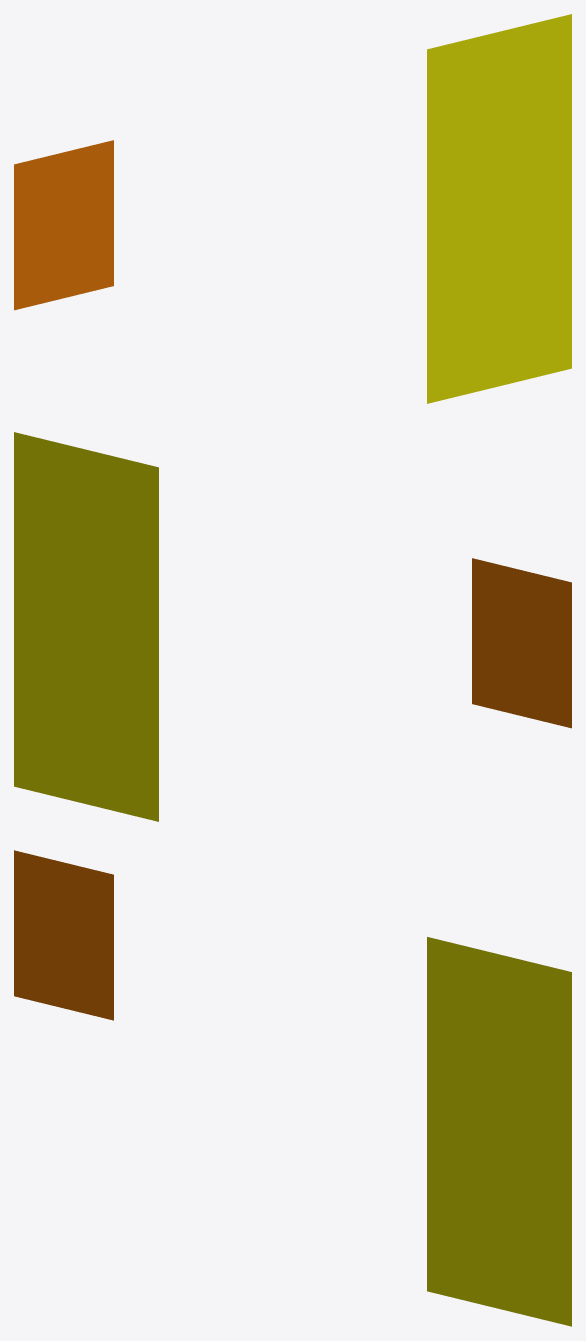
Rendered from FacadeCLOD1.fbx.
3 views of the same model, one above another, from view 1: azimuth 30°, elevation 25°; view 2: azimuth 150°, elevation 25°; view 3: azimuth 330°, elevation 25° (orthographic).
Visible parts, largest first — view 1: FacadeCDoorway, FacadeCWindow; view 2: FacadeCDoorway, FacadeCWindow; view 3: FacadeCDoorway, FacadeCWindow.
Part boxes in pixels (bbox=[...]): FacadeCDoorway: bbox=[427, 14, 571, 403]; FacadeCWindow: bbox=[14, 140, 113, 310]; FacadeCDoorway: bbox=[14, 432, 158, 821]; FacadeCWindow: bbox=[472, 558, 571, 728]; FacadeCDoorway: bbox=[427, 937, 571, 1326]; FacadeCWindow: bbox=[14, 850, 113, 1020].
Size of what is drawn, in the model's own units: 437 by 266 by 0.
